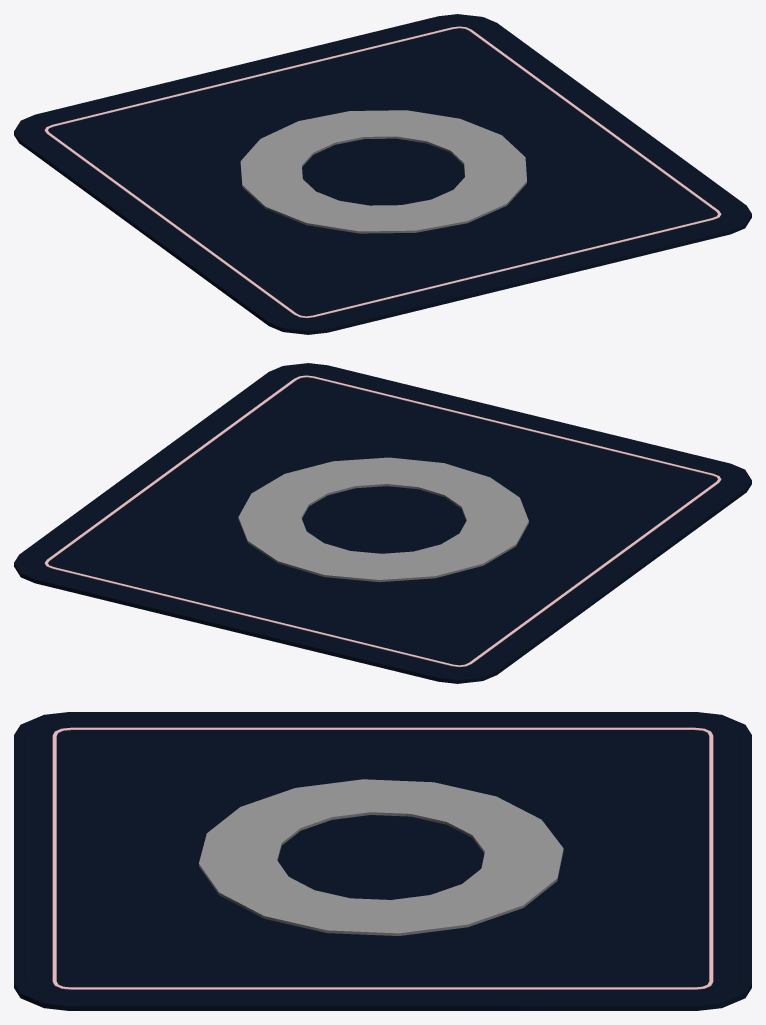
File: W_M_Playground_O_L1.fbx
3 renders of one model, top to bottom at view 1: azimuth 30°, elevation 25°; view 2: azimuth 150°, elevation 25°; view 3: azimuth 270°, elevation 25°, orthographic. The views are drawn at different scales.
Parts seen in each view (by area): view 1: W_M_Playground_O_L1; view 2: W_M_Playground_O_L1; view 3: W_M_Playground_O_L1.
Boxes of the visible parts, x1,y1,x2,y2 form: W_M_Playground_O_L1: (14, 14, 751, 334); W_M_Playground_O_L1: (14, 363, 751, 683); W_M_Playground_O_L1: (14, 712, 751, 1010).
Size of the model in its own units: 17.08 by 0.4337 by 18.12.
